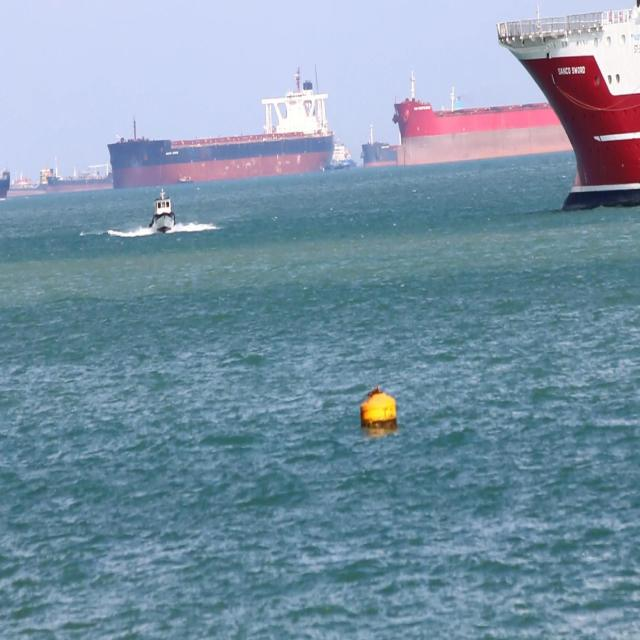buoy: (358, 381, 399, 429)
ship: (500, 0, 639, 213), (106, 66, 334, 190), (391, 65, 578, 167), (44, 158, 112, 193), (360, 121, 403, 166), (1, 164, 42, 200), (149, 186, 176, 235), (326, 138, 356, 166)
